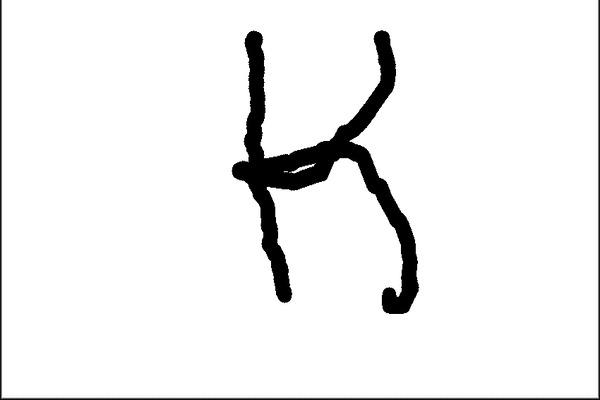K: (223, 24, 422, 318)
